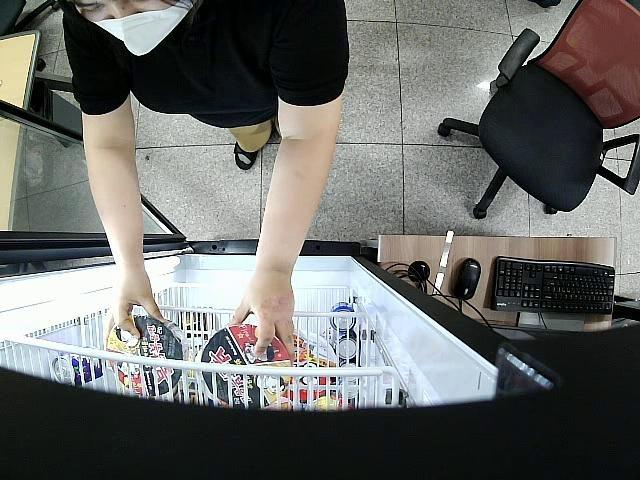07_buldak_L: (204, 326, 291, 407), (106, 316, 189, 396)
